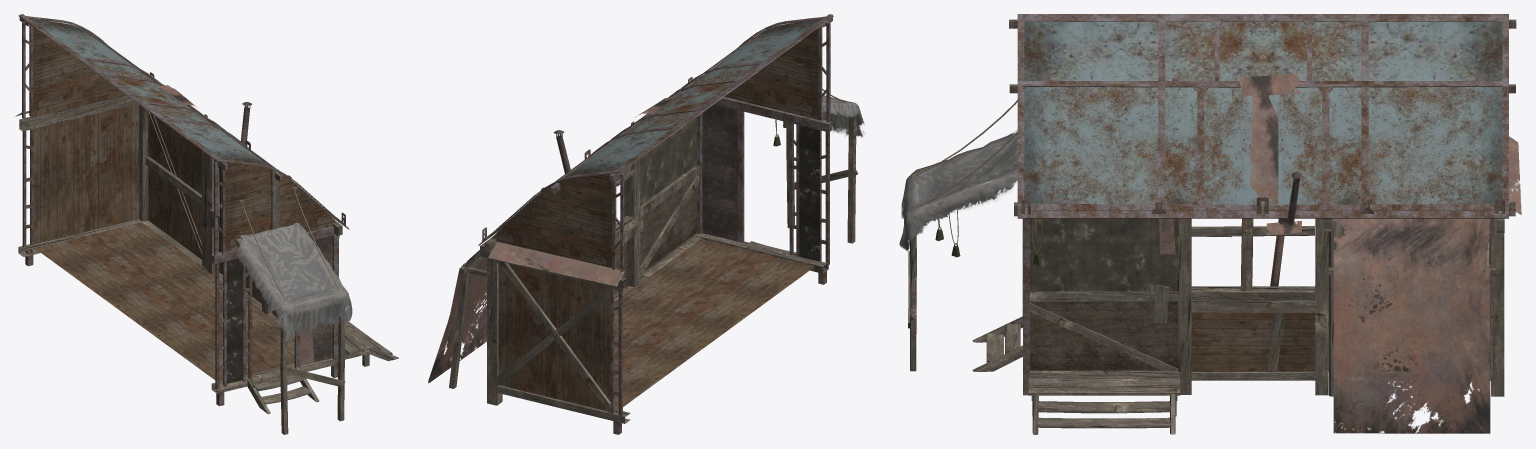
File: shed.glb
3 views of the same model, side by side, from view 1: azimuth 30°, elevation 25°; view 2: azimuth 150°, elevation 25°; view 3: azimuth 270°, elevation 25° (orthographic). The views are drawn at different scales.
Visible parts, largest first — view 1: wood_planks_tile, Beam, fabrick.003, metal, Metal_rust.001, Metal, wood_planks, Metal_rust.002, rope; view 2: wood_planks_tile, Beam, wood_planks, metal, Metal_rust.001, Metal, Metal_rust, Metal_rust.002, fabrick.003; view 3: Metal_rust.001, Metal_rust, Beam, metal, wood_planks, wood_planks_tile, fabrick.003, Metal_rust.002, rope.
Part boxes in pixels (bbox=[...]): wood_planks_tile: bbox=[31, 27, 336, 381]; Beam: bbox=[18, 95, 398, 434]; fabrick.003: bbox=[234, 223, 352, 342]; metal: bbox=[18, 15, 349, 382]; Metal_rust.001: bbox=[30, 19, 338, 221]; Metal: bbox=[19, 14, 283, 406]; wood_planks: bbox=[227, 235, 332, 383]; Metal_rust.002: bbox=[15, 85, 314, 365]; rope: bbox=[240, 187, 339, 304]; wood_planks_tile: bbox=[492, 28, 818, 411]; Beam: bbox=[449, 30, 858, 423]; wood_planks: bbox=[640, 104, 819, 271]; metal: bbox=[478, 15, 833, 256]; Metal_rust.001: bbox=[490, 20, 820, 236]; Metal: bbox=[550, 14, 832, 434]; Metal_rust: bbox=[428, 250, 486, 383]; Metal_rust.002: bbox=[488, 96, 675, 286]; fabrick.003: bbox=[735, 88, 864, 137]; Metal_rust.001: bbox=[1024, 22, 1502, 204]; Metal_rust: bbox=[1333, 218, 1490, 433]; Beam: bbox=[908, 86, 1515, 434]; metal: bbox=[935, 14, 1508, 395]; wood_planks: bbox=[1030, 218, 1178, 370]; wood_planks_tile: bbox=[1191, 218, 1490, 371]; fabrick.003: bbox=[899, 130, 1017, 251]; Metal_rust.002: bbox=[1159, 74, 1521, 286]; rope: bbox=[911, 100, 1042, 252].
Bounding box in the file's own units: 3.4 × 4.23 × 7.79.
Materials: 6 (6 with a texture image).
